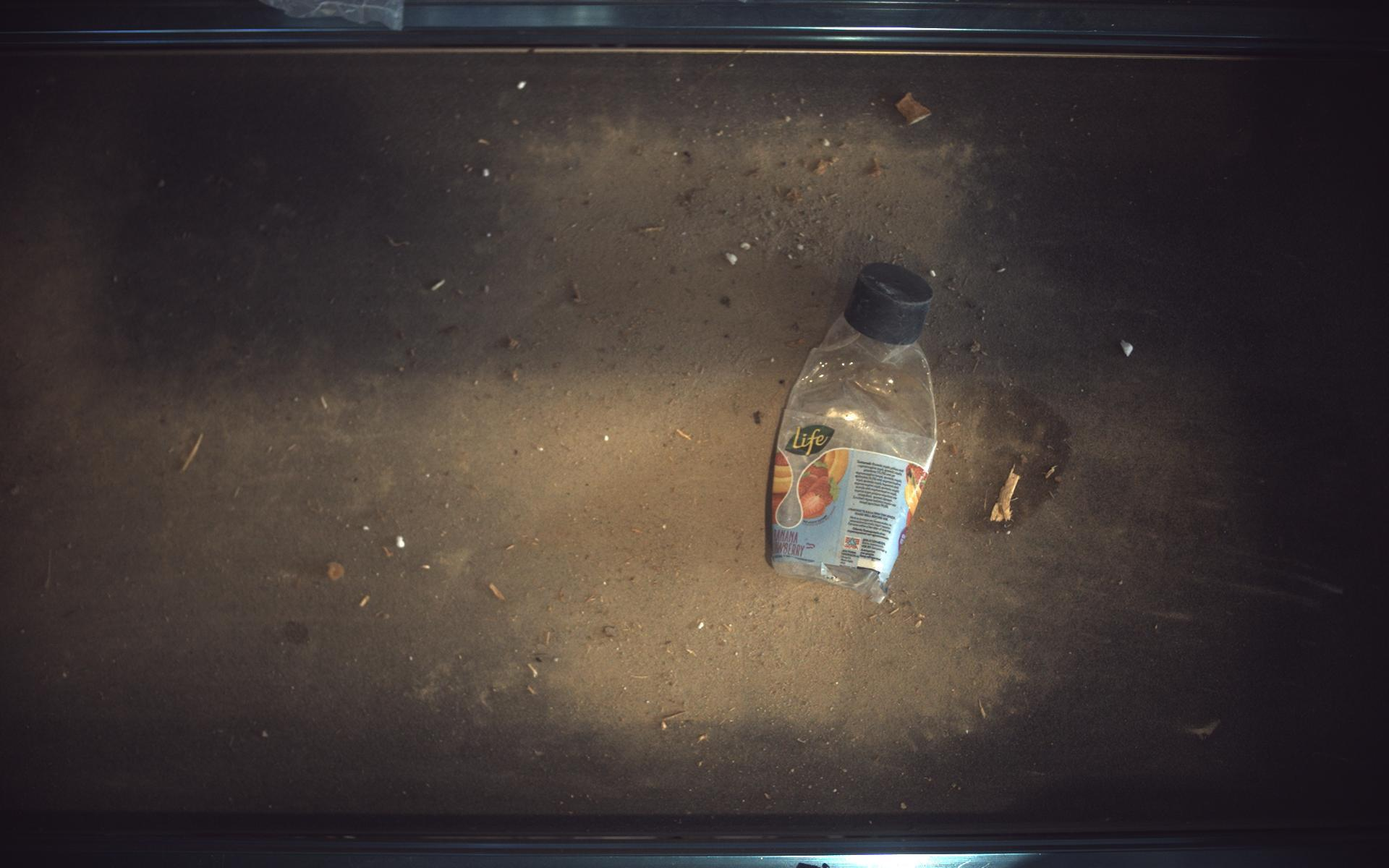general_w: (771, 263, 939, 603)
